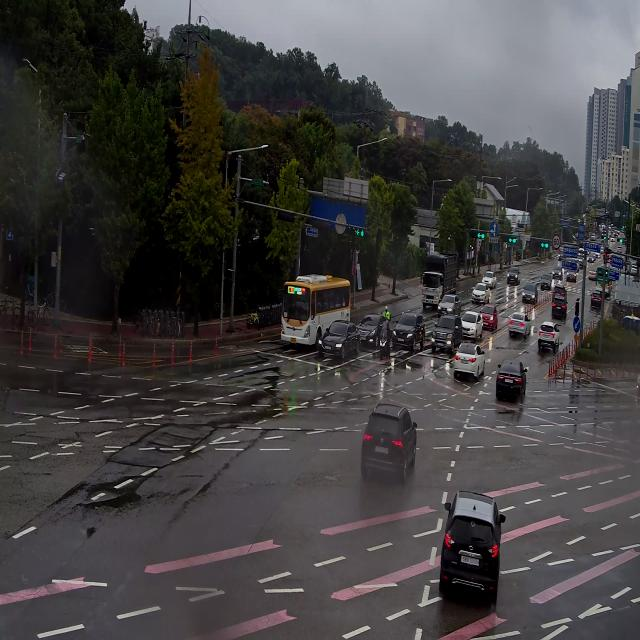Bus: (280, 270, 351, 349), (594, 261, 614, 299)
Car: (437, 472, 508, 614), (353, 398, 422, 489), (315, 312, 362, 364), (392, 304, 426, 357), (496, 350, 527, 403), (430, 308, 462, 358), (453, 336, 487, 383), (353, 304, 388, 348), (536, 317, 564, 359), (504, 307, 532, 337), (478, 301, 502, 335), (465, 275, 490, 307), (461, 307, 483, 342), (436, 293, 459, 323), (547, 292, 570, 322), (520, 279, 539, 310), (538, 268, 554, 294), (504, 263, 520, 288), (481, 270, 499, 290), (588, 289, 602, 311), (551, 262, 564, 282), (587, 263, 597, 284)
Motorcycle: (377, 316, 392, 365)
Truck: (416, 245, 458, 310)
